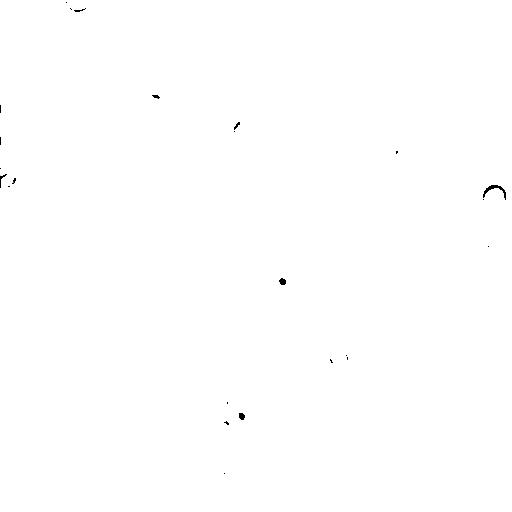micro-algae: (268, 291, 363, 384), (439, 49, 477, 80), (471, 241, 503, 275), (230, 114, 261, 145), (267, 263, 297, 292), (226, 398, 255, 427), (480, 182, 507, 213), (377, 133, 409, 156), (211, 469, 241, 489), (207, 422, 232, 440), (328, 349, 349, 370), (208, 159, 231, 177), (1, 170, 19, 190), (63, 0, 93, 11), (0, 107, 10, 136)
